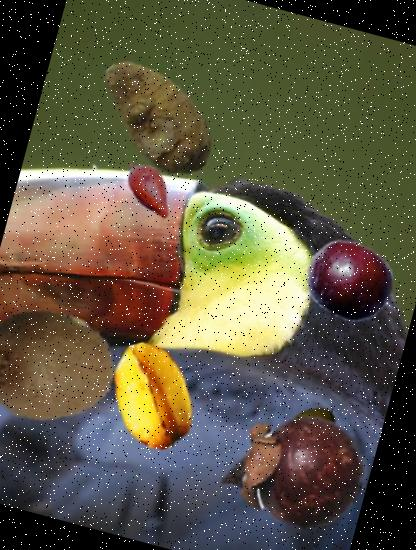Carambula: (85, 330, 220, 464)
Ginger: (74, 33, 241, 200)
Kiwi: (0, 286, 129, 449)
Mangostan: (211, 383, 382, 550)
Pear: (277, 394, 349, 466)
Plum: (296, 226, 404, 335)
Salak: (110, 148, 192, 230)
